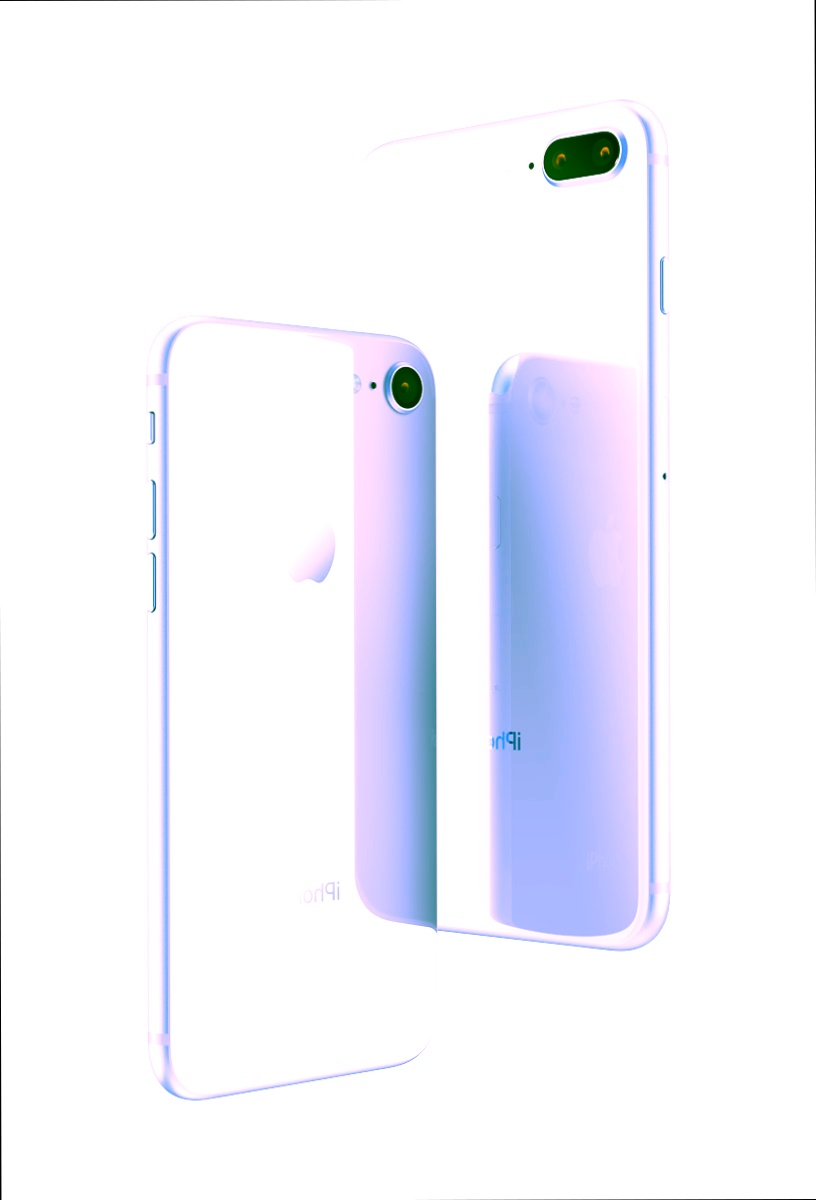iphone: (381, 316, 668, 1099)
